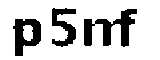5: (47, 6, 77, 50)
f: (118, 6, 141, 54)
m: (80, 18, 124, 54)
p: (11, 17, 41, 60)
